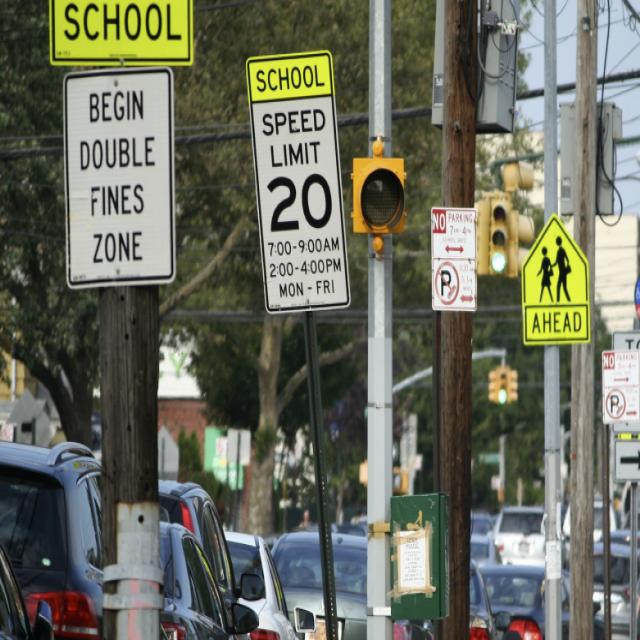speedLimit20: (259, 102, 335, 237)
